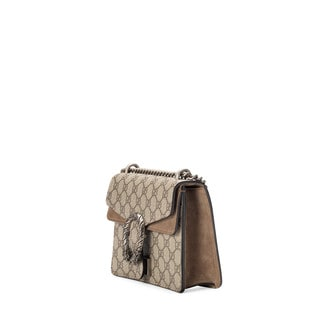Gucci: (103, 154, 234, 302), (119, 209, 150, 273), (119, 183, 174, 215)
